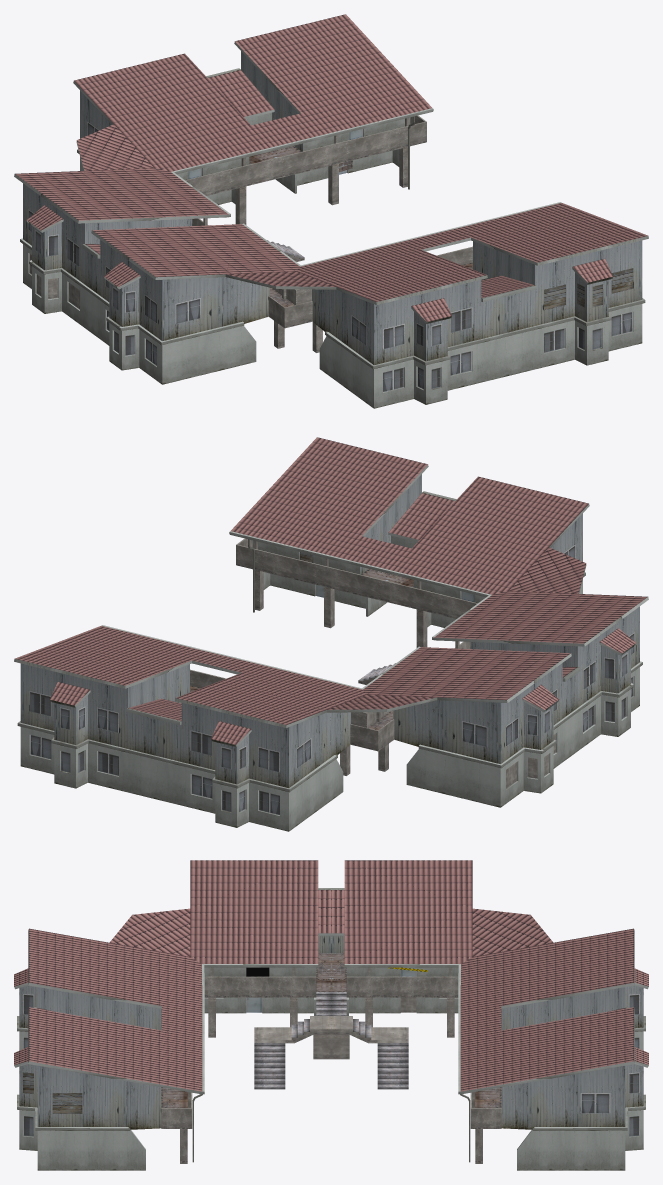
Rendered from sw_apartments02.obj.
3 renders of one model, top to bottom at view 1: azimuth 30°, elevation 25°; view 2: azimuth 150°, elevation 25°; view 3: azimuth 270°, elevation 25°, orthographic.
Parts seen in each view (by area): view 1: sw_apartments02; view 2: sw_apartments02; view 3: sw_apartments02.
Boxes of the visible parts, x1,y1,x2,y2 form: sw_apartments02: (14, 14, 648, 408); sw_apartments02: (14, 437, 648, 831); sw_apartments02: (14, 860, 648, 1170).
Size of the model in its own units: 31.72 by 7.88 by 41.
Materials: 12 (12 with a texture image).
